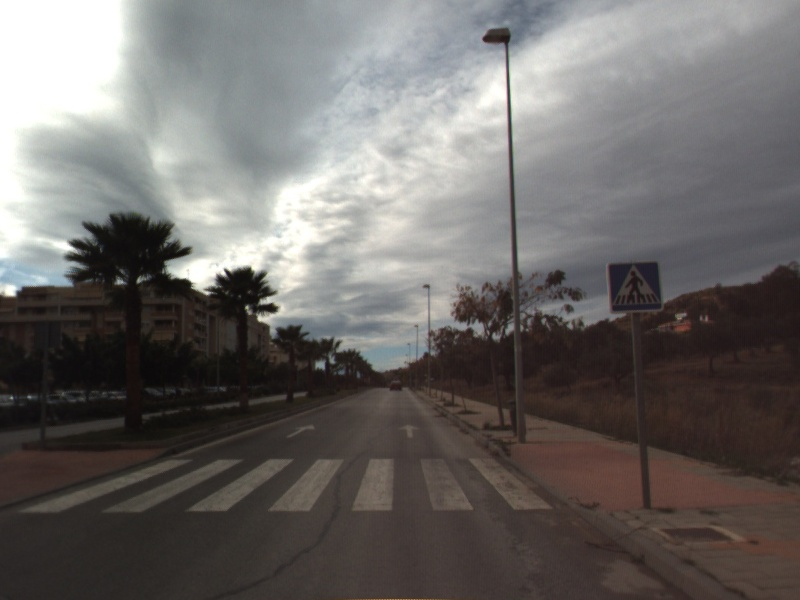STRAIGHT: (284, 422, 318, 440), (396, 422, 422, 440)
